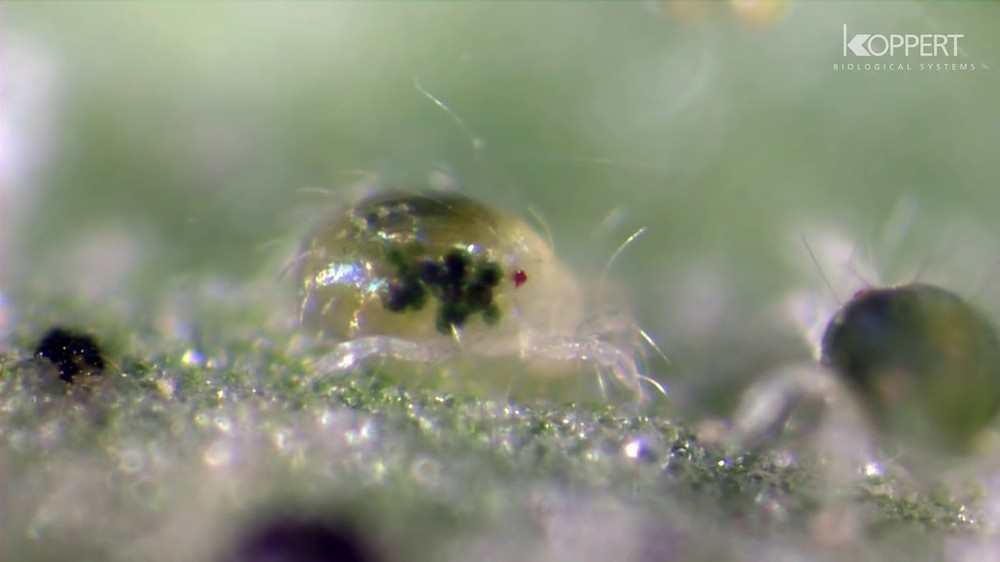Aracnido Rojo: (254, 151, 686, 435)
